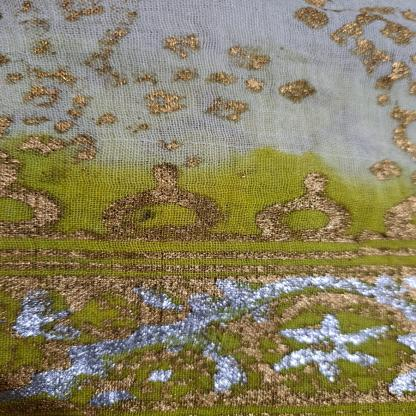spot: (41, 161, 96, 183), (275, 45, 317, 68), (133, 208, 162, 229)
